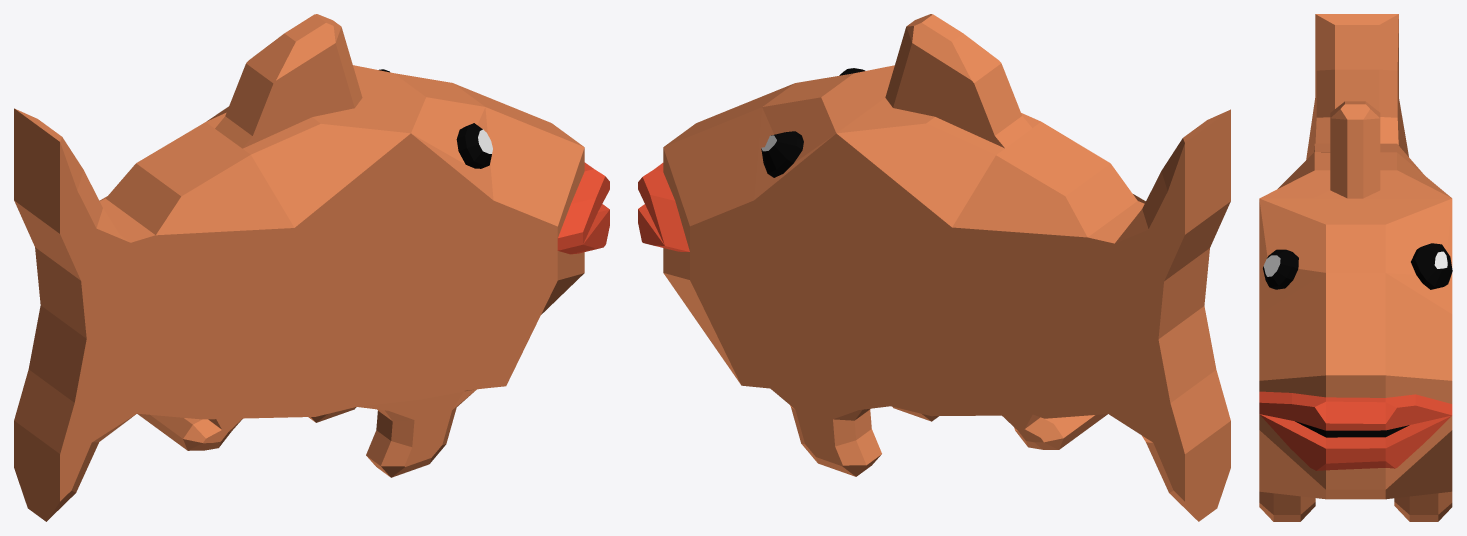
The model's file is FirstFeesh.glb.
3 views of the same model, side by side, from view 1: azimuth 30°, elevation 25°; view 2: azimuth 150°, elevation 25°; view 3: azimuth 270°, elevation 25° (orthographic). The views are drawn at different scales.
Visible parts, largest first — view 1: Cube; view 2: Cube; view 3: Cube.
Part boxes in pixels (<box>): Cube: <box>14,14,609,521</box>; Cube: <box>638,14,1230,521</box>; Cube: <box>1259,14,1452,521</box>.
Bounding box in the file's own units: 3.8 × 2.83 × 1.26.
